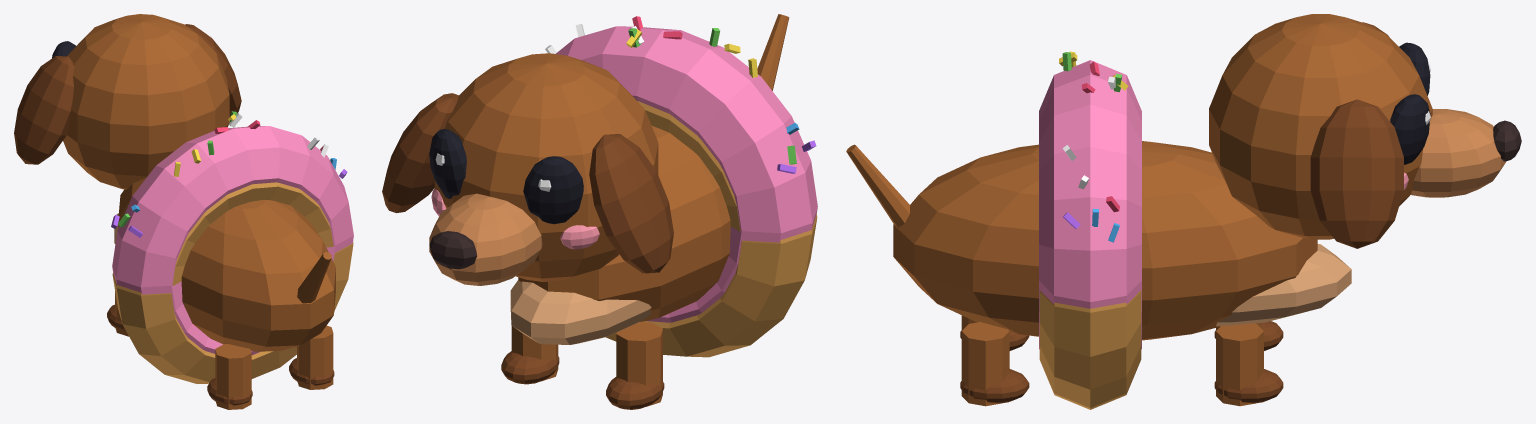
File: DonutDachshund.fbx
3 renders of one model, left to right at view 1: azimuth 30°, elevation 25°; view 2: azimuth 150°, elevation 25°; view 3: azimuth 270°, elevation 25°, orthographic. The views are drawn at different scales.
Visible parts, largest first — view 1: Pet_A8642E, Pet_FF8FC4, Pet_E0A050, Pet_7A4420; view 2: Pet_A8642E, Pet_FF8FC4, Pet_7A4420, Pet_E0A050, Pet_C88450, Pet_D8A070, Pet_1E1E2A, Pet_3A2A2A, Pet_FF9AAE, Pet_FFFFFF, Pet_6FD65A, Pet_FFE14A; view 3: Pet_A8642E, Pet_FF8FC4, Pet_7A4420, Pet_E0A050, Pet_C88450, Pet_D8A070, Pet_1E1E2A, Pet_3A2A2A.
Part boxes in pixels (x1=…): Pet_A8642E: x1=63, y1=14, x2=335, y2=409; Pet_FF8FC4: x1=112, y1=126, x2=353, y2=355; Pet_E0A050: x1=112, y1=182, x2=353, y2=383; Pet_7A4420: x1=14, y1=24, x2=334, y2=405; Pet_A8642E: x1=434, y1=14, x2=789, y2=406; Pet_FF8FC4: x1=556, y1=26, x2=817, y2=322; Pet_7A4420: x1=382, y1=93, x2=673, y2=409; Pet_E0A050: x1=606, y1=101, x2=817, y2=357; Pet_C88450: x1=429, y1=193, x2=542, y2=285; Pet_D8A070: x1=510, y1=280, x2=651, y2=344; Pet_1E1E2A: x1=429, y1=129, x2=583, y2=224; Pet_3A2A2A: x1=429, y1=231, x2=476, y2=269; Pet_FF9AAE: x1=431, y1=188, x2=599, y2=249; Pet_FFFFFF: x1=435, y1=24, x2=644, y2=191; Pet_6FD65A: x1=628, y1=28, x2=796, y2=164; Pet_FFE14A: x1=626, y1=29, x2=757, y2=77; Pet_A8642E: x1=846, y1=14, x2=1432, y2=406; Pet_FF8FC4: x1=1039, y1=60, x2=1141, y2=349; Pet_7A4420: x1=960, y1=22, x2=1403, y2=403; Pet_E0A050: x1=1039, y1=290, x2=1141, y2=409; Pet_C88450: x1=1410, y1=109, x2=1506, y2=197; Pet_D8A070: x1=1216, y1=244, x2=1351, y2=326; Pet_1E1E2A: x1=1390, y1=42, x2=1430, y2=164; Pet_3A2A2A: x1=1493, y1=120, x2=1521, y2=161.
Bounding box in the file's own units: 1.14 × 1.37 × 2.26.
